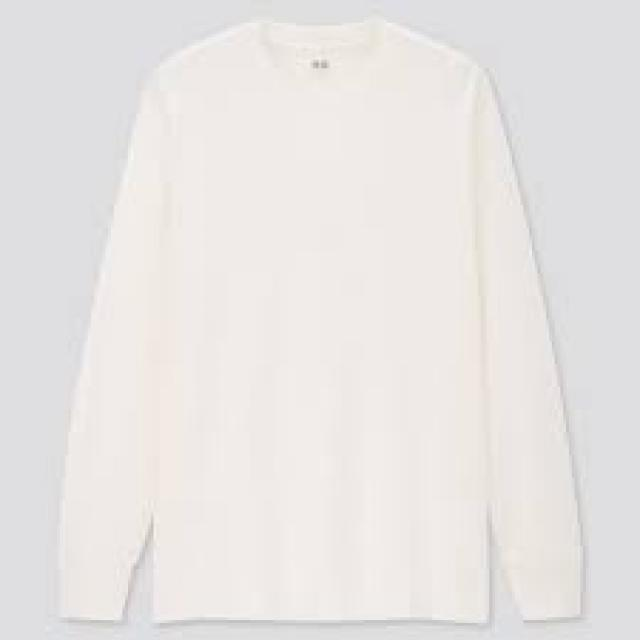plain: (47, 22, 592, 627)
